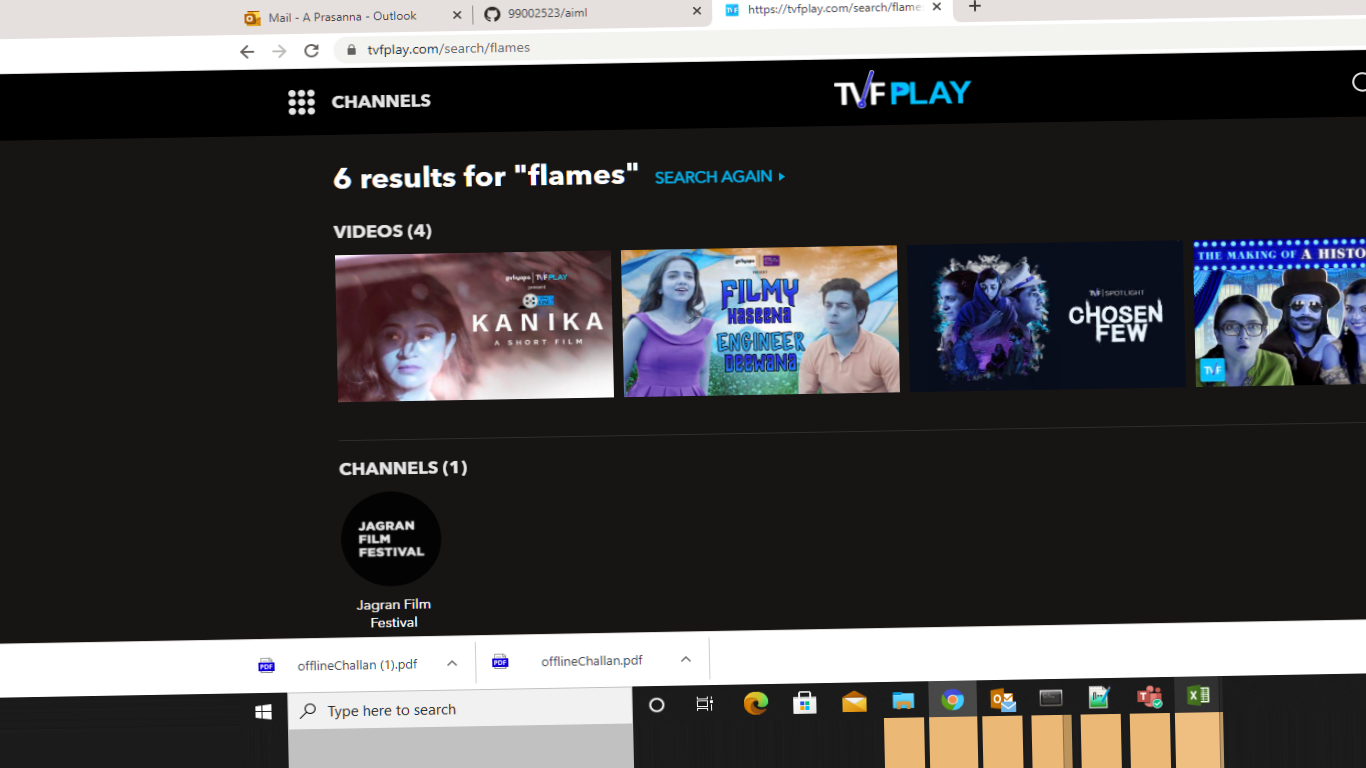resultsfound: (320, 144, 805, 211)
searchicon: (1338, 68, 1366, 102)
